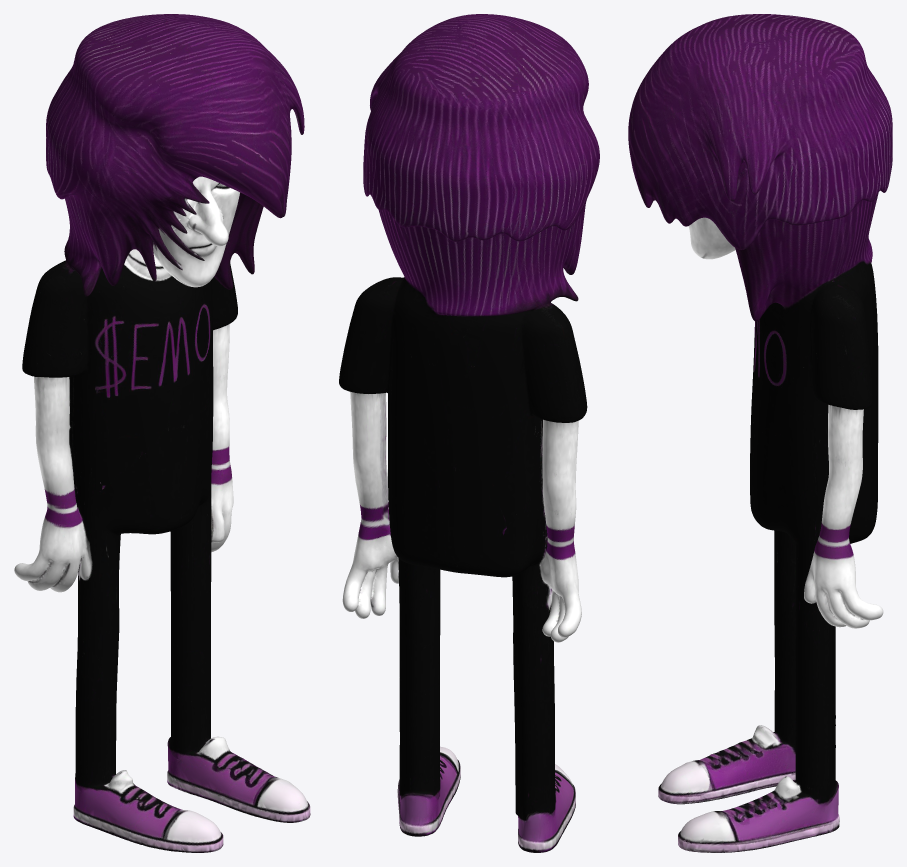
The model's file is EMO_final.glb.
The picture shows the model from 3 angles, left to right: view 1: azimuth 30°, elevation 25°; view 2: azimuth 150°, elevation 25°; view 3: azimuth 270°, elevation 25°; orthographic projection.
Bounding box in the file's own units: 0.6164 × 1.9 × 0.5836.
1 material, 1 textured.
